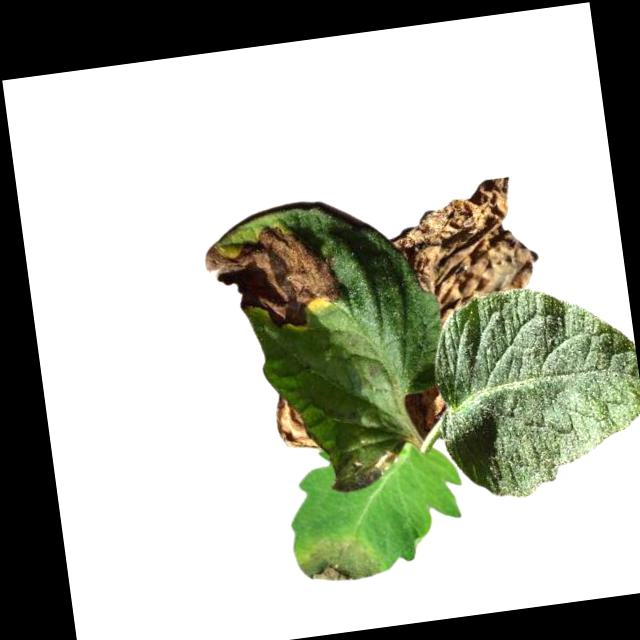Late_blight: (382, 173, 545, 331), (199, 214, 346, 342), (295, 528, 384, 592), (328, 442, 402, 494), (272, 390, 318, 454), (402, 381, 451, 437)
